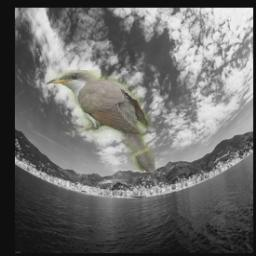Cuckoo: (47, 70, 156, 172)
